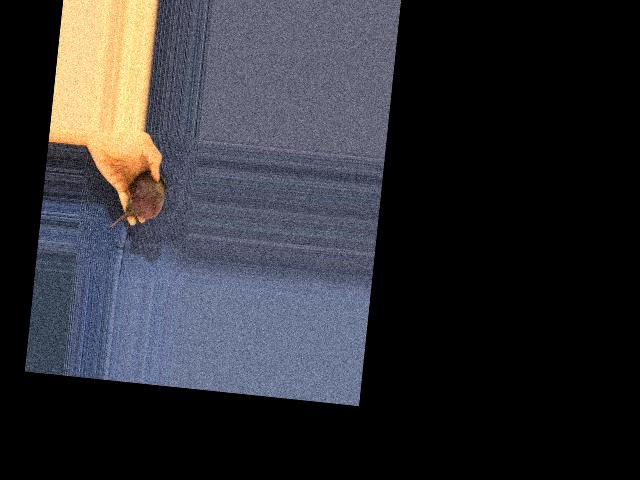beet: (108, 167, 169, 233)
